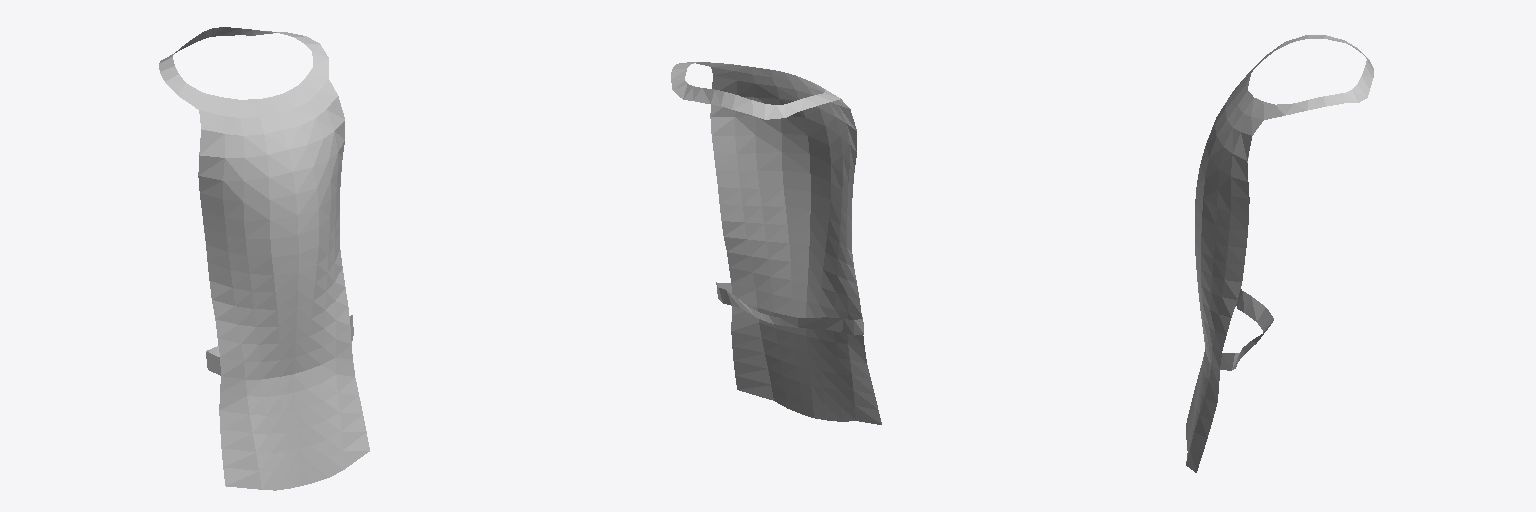
File: apron_4.obj
The picture shows the model from 3 angles: view 1: azimuth 30°, elevation 25°; view 2: azimuth 150°, elevation 25°; view 3: azimuth 270°, elevation 25°; orthographic projection.
Parts seen in each view (by area): view 1: apron_4; view 2: apron_4; view 3: apron_4.
Boxes of the visible parts, <box> form: apron_4: <box>159,27,369,490</box>; apron_4: <box>671,62,881,424</box>; apron_4: <box>1186,35,1373,472</box>.
Bounding box in the file's own units: 0.6445 × 1.55 × 0.6761.